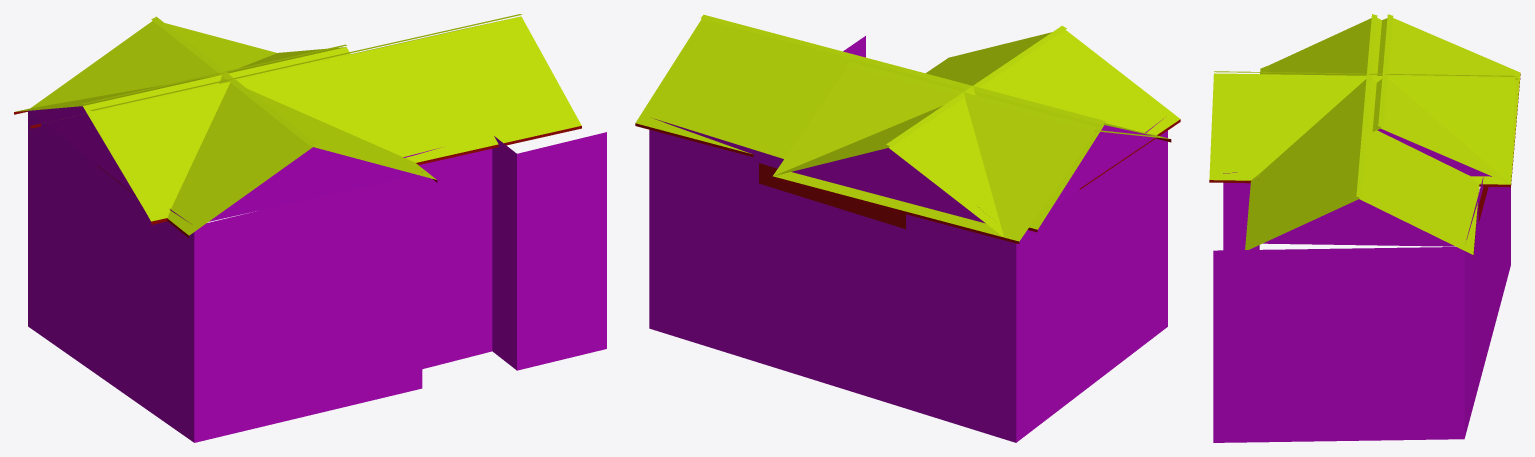
The model's file is bgj_364.glb.
3 views of the same model, side by side, from view 1: azimuth 30°, elevation 25°; view 2: azimuth 150°, elevation 25°; view 3: azimuth 270°, elevation 25° (orthographic). The views are drawn at different scales.
Parts seen in each view (by area): view 1: bgj_364; view 2: bgj_364; view 3: bgj_364.
Part boxes in pixels (<box>): bgj_364: <box>14,14,606,442</box>; bgj_364: <box>635,14,1180,442</box>; bgj_364: <box>1209,14,1520,442</box>.
Bounding box in the file's own units: 19.14 × 11.75 × 13.53.
